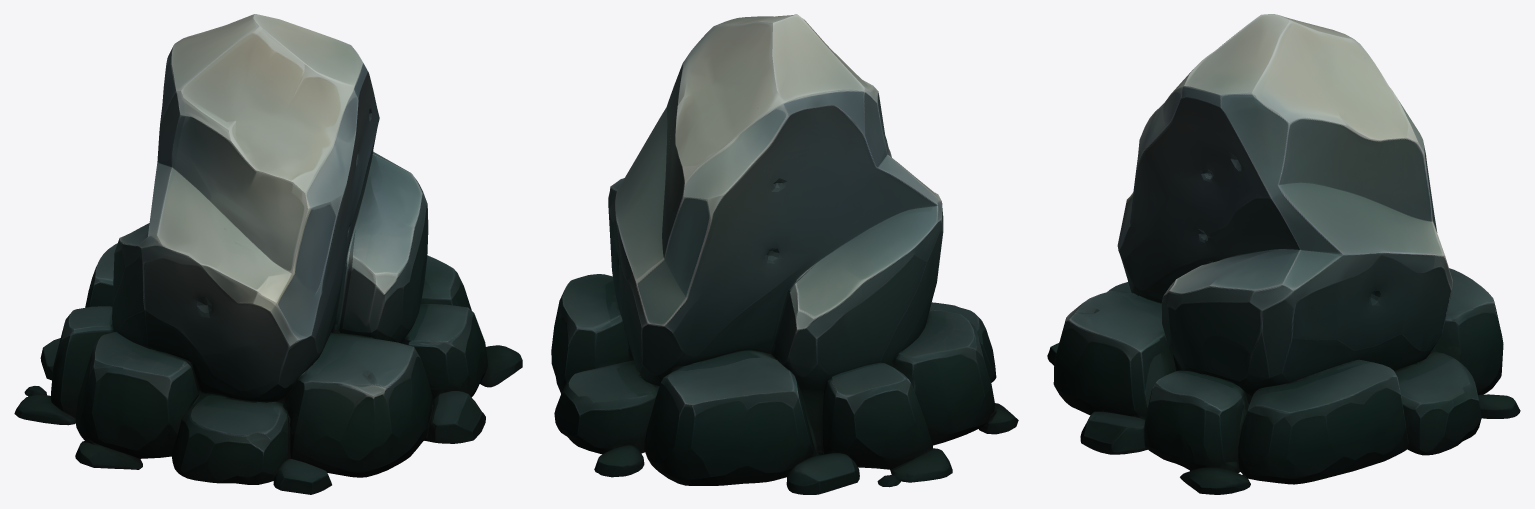
Rendered from SM_Ore12.fbx.
3 views of the same model, side by side, from view 1: azimuth 30°, elevation 25°; view 2: azimuth 150°, elevation 25°; view 3: azimuth 270°, elevation 25° (orthographic). The views are drawn at different scales.
Parts seen in each view (by area): view 1: Ore12; view 2: Ore12; view 3: Ore12.
Boxes of the visible parts, x1,y1,x2,y2 form: Ore12: (14,14,522,494); Ore12: (551,14,1018,494); Ore12: (1047,14,1520,494).
Size of the model in its own units: 142 by 119 by 136.
1 material, 1 textured.
